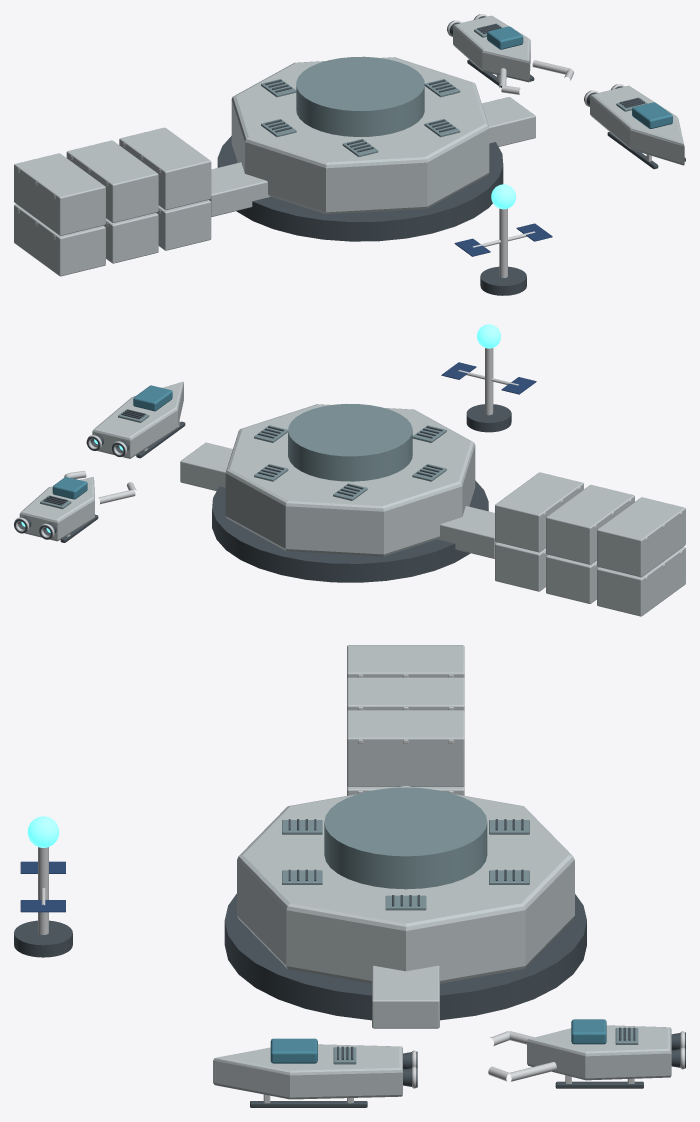
3 views of the same model, one above another, from view 1: azimuth 30°, elevation 25°; view 2: azimuth 150°, elevation 25°; view 3: azimuth 270°, elevation 25° (orthographic). The views are drawn at different scales.
Parts seen in each view (by area): view 1: 000-trade-hub/1, 003-cargo-container-cluster/0, 000-trade-hub/2, 000-trade-hub/0, 000-trade-hub/3, 001-shuttle/2, 002-orbital-tug/2, 004-relay-beacon/0, 004-relay-beacon/1, 001-shuttle/3, 002-orbital-tug/1, 004-relay-beacon/3 (+4 smaller); view 2: 000-trade-hub/1, 003-cargo-container-cluster/0, 000-trade-hub/2, 000-trade-hub/0, 000-trade-hub/3, 001-shuttle/2, 002-orbital-tug/2, 004-relay-beacon/0, 004-relay-beacon/1, 001-shuttle/0, 001-shuttle/3, 002-orbital-tug/1 (+4 smaller); view 3: 000-trade-hub/1, 000-trade-hub/2, 003-cargo-container-cluster/0, 000-trade-hub/0, 001-shuttle/2, 002-orbital-tug/2, 000-trade-hub/3, 004-relay-beacon/0, 001-shuttle/0, 002-orbital-tug/1, 001-shuttle/3, 002-orbital-tug/0 (+4 smaller).
Boxes of the visible parts, x1,y1,x2,y2 form: 000-trade-hub/1: [231, 57, 489, 214]; 003-cargo-container-cluster/0: [14, 127, 211, 276]; 000-trade-hub/2: [261, 56, 460, 156]; 000-trade-hub/0: [217, 79, 503, 241]; 000-trade-hub/3: [209, 97, 535, 216]; 001-shuttle/2: [590, 85, 684, 165]; 002-orbital-tug/2: [453, 15, 530, 82]; 004-relay-beacon/0: [480, 266, 526, 295]; 004-relay-beacon/1: [472, 208, 535, 277]; 001-shuttle/3: [632, 102, 672, 128]; 002-orbital-tug/1: [447, 14, 573, 94]; 004-relay-beacon/3: [454, 223, 552, 256]; 000-trade-hub/1: [225, 404, 475, 556]; 003-cargo-container-cluster/0: [495, 472, 685, 616]; 000-trade-hub/2: [254, 403, 446, 500]; 000-trade-hub/0: [212, 426, 488, 582]; 000-trade-hub/3: [180, 442, 496, 558]; 001-shuttle/2: [92, 381, 183, 458]; 002-orbital-tug/2: [19, 476, 94, 541]; 004-relay-beacon/0: [466, 404, 511, 432]; 004-relay-beacon/1: [458, 348, 518, 415]; 001-shuttle/0: [86, 409, 185, 458]; 001-shuttle/3: [133, 385, 172, 411]; 002-orbital-tug/1: [15, 471, 136, 539]; 000-trade-hub/1: [237, 785, 574, 983]; 000-trade-hub/2: [282, 787, 529, 910]; 003-cargo-container-cluster/0: [347, 645, 464, 795]; 000-trade-hub/0: [224, 819, 586, 1020]; 001-shuttle/2: [213, 1044, 402, 1099]; 002-orbital-tug/2: [527, 1025, 671, 1080]; 000-trade-hub/3: [372, 965, 439, 1028]; 004-relay-beacon/0: [14, 920, 72, 957]; 001-shuttle/0: [250, 1046, 417, 1107]; 002-orbital-tug/1: [488, 1031, 684, 1083]; 001-shuttle/3: [270, 1038, 317, 1063]; 002-orbital-tug/0: [555, 1027, 685, 1088].
Size of the model in its own units: 19.25 by 3.1 by 14.83.
